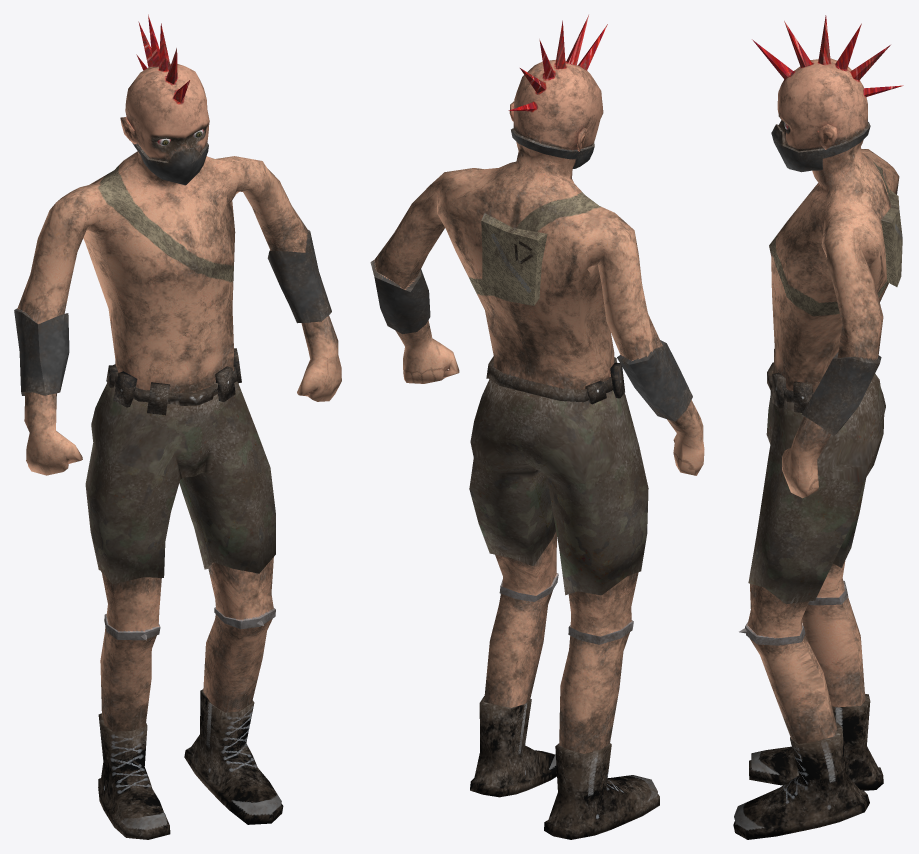
The model's file is Anim_cogerobjeto_npc2.0017.obj.
3 views of the same model, side by side, from view 1: azimuth 30°, elevation 25°; view 2: azimuth 150°, elevation 25°; view 3: azimuth 270°, elevation 25° (orthographic).
Visible parts, largest first — view 1: polySurface1; view 2: polySurface1; view 3: polySurface1.
Part boxes in pixels (box(x1,y1,x2,y2)): polySurface1: box(14, 14, 341, 839); polySurface1: box(370, 15, 704, 839); polySurface1: box(733, 15, 903, 839).
Size of the model in its own units: 4.15 by 10.16 by 2.01.
